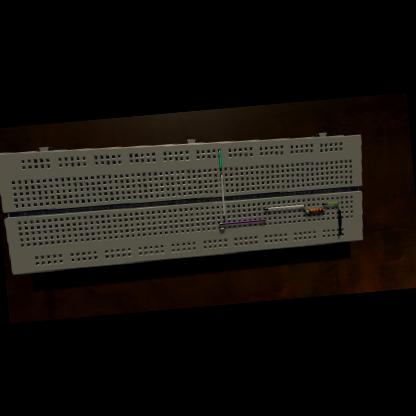breadboard: (0, 119, 371, 276)
resistor: (310, 208, 324, 213)
wire: (218, 218, 266, 226), (219, 175, 226, 218), (263, 204, 305, 210), (336, 209, 342, 236), (218, 151, 222, 171), (322, 203, 340, 206), (304, 210, 310, 212), (219, 228, 225, 230), (324, 209, 325, 210)
